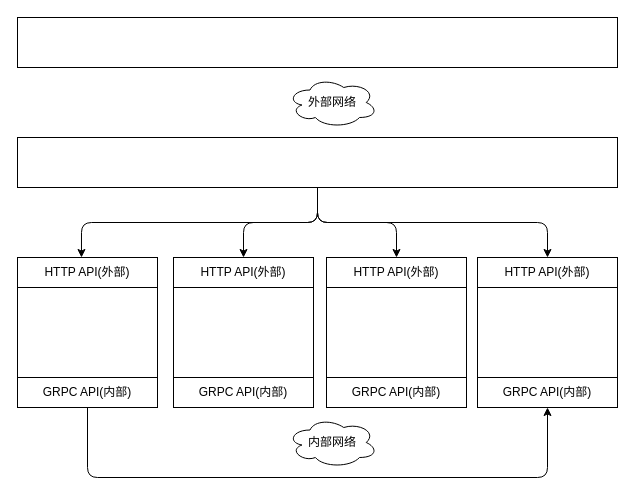
Some shapes in this 635 by 503 pixel diagram are drawn without their labels. The shapes that lost their labels are listed below. From the top down, each one's box as (x1, y1, x2, y2) in pixels, then its label:
(16, 16, 618, 68): 浏览器
(16, 136, 618, 188): API Gateway (Apisix/Traefik/Nginx)
